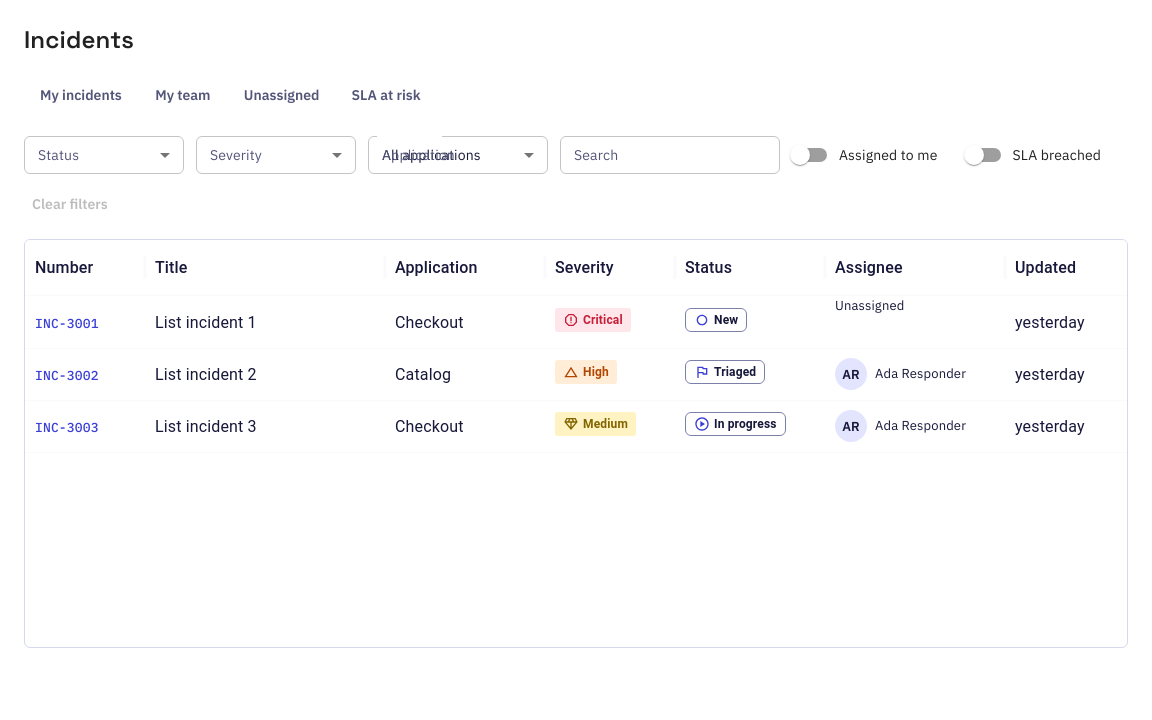
Scenario: FilterBar › maps the toggles to assigneeId=me and slaBreached=true, and clears them
expect the table named "Incidents" is shown: met, box [25,240,1127,646]
Click the switch labelled "Assigned to me" at (864, 155), box [790,145,938,165]
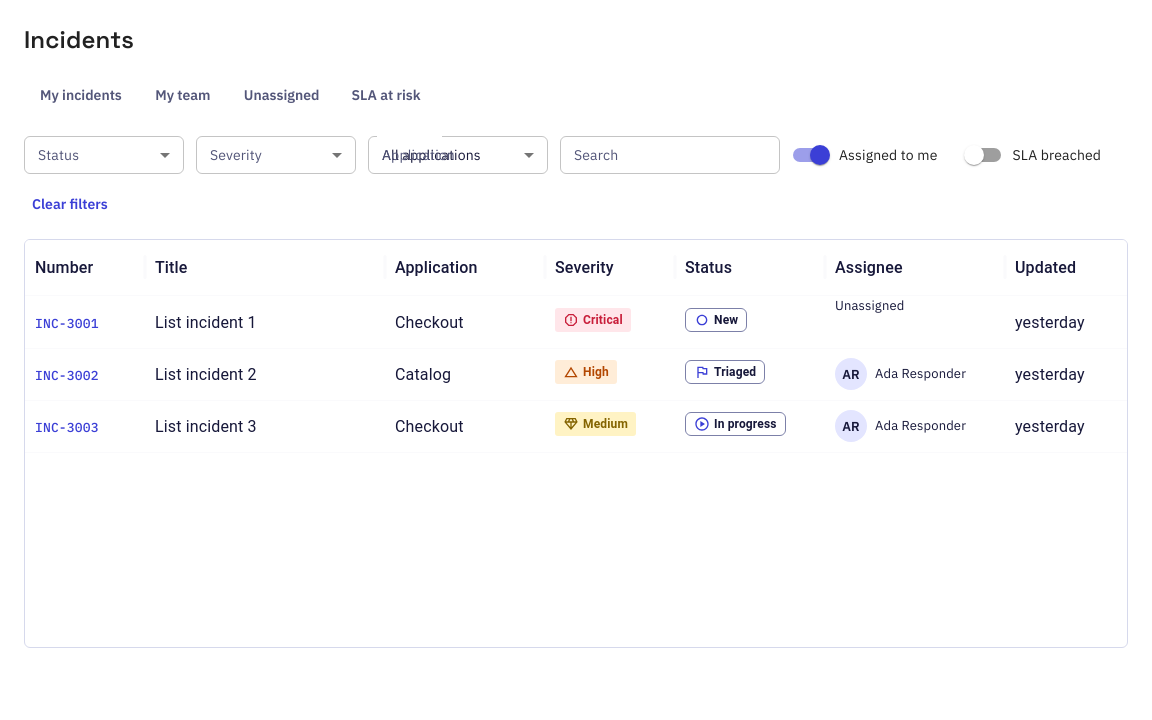
Click the switch labelled "SLA breached" at (1032, 155), box [964,145,1101,165]
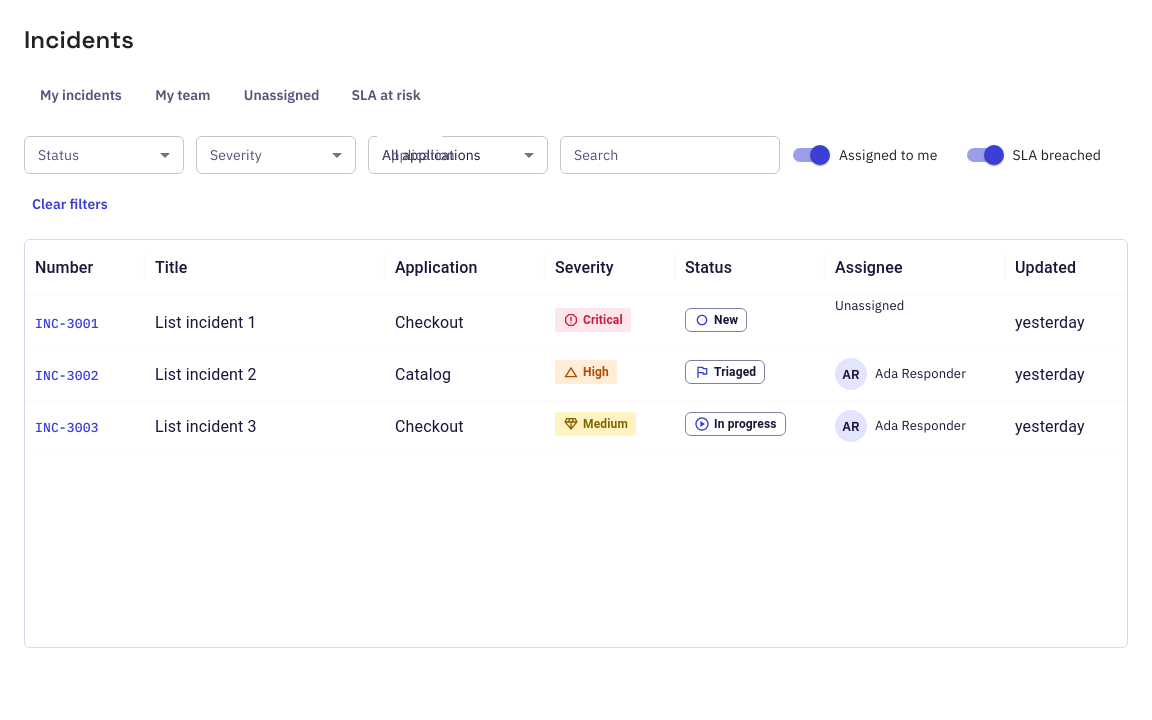
Click the button "Clear filters" at (70, 204), box [24,186,116,222]
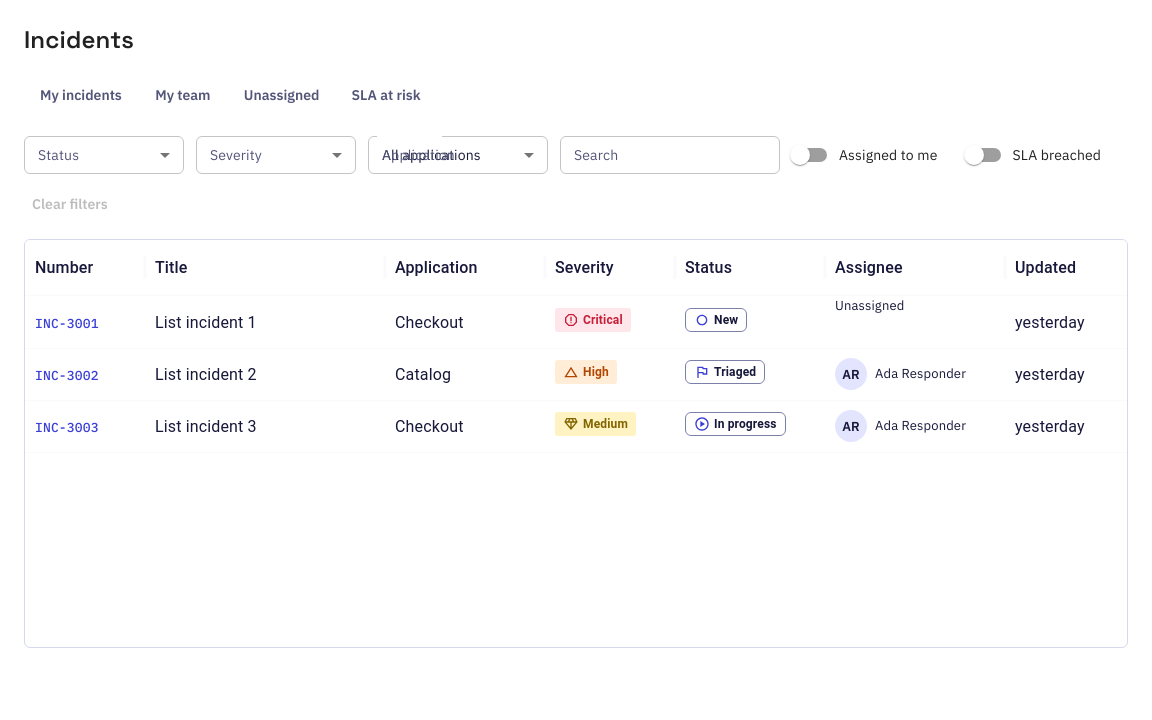
expect the button "Clear filters" is disabled: met, box [24,186,116,222]
